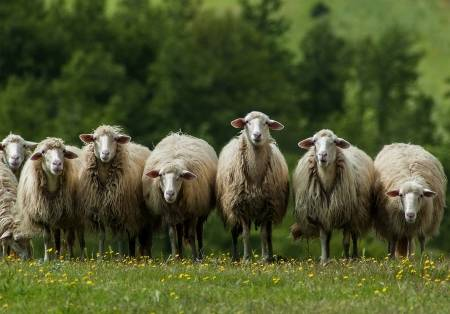sheep: (214, 104, 286, 260), (290, 126, 372, 261), (143, 121, 213, 256), (372, 134, 447, 258), (76, 123, 145, 252), (22, 135, 80, 257), (1, 126, 38, 250)
